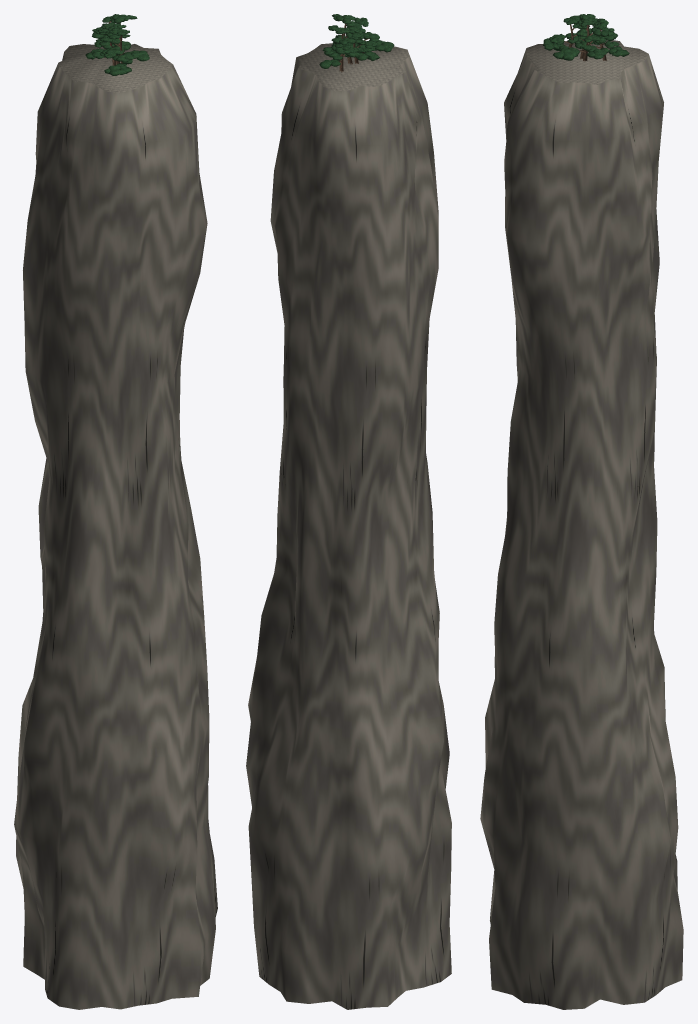
The model's file is karst_peak.glb.
The picture shows the model from 3 angles, left to right: view 1: azimuth 30°, elevation 25°; view 2: azimuth 150°, elevation 25°; view 3: azimuth 270°, elevation 25°; orthographic projection.
Visible parts, largest first — view 1: KarstPeak, PineNeedles.003, PineNeedles, PineNeedles.001; view 2: KarstPeak, PineNeedles, PineNeedles.002, PineNeedles.003, PineNeedles.001; view 3: KarstPeak, PineNeedles, PineNeedles.003, PineNeedles.002.
Boxes of the visible parts, box(x1,y1,x2,y2) form: KarstPeak: box(14, 44, 217, 1009); PineNeedles.003: box(100, 28, 133, 75); PineNeedles: box(92, 14, 149, 64); PineNeedles.001: box(85, 23, 130, 59); KarstPeak: box(246, 43, 451, 1009); PineNeedles: box(331, 14, 359, 57); PineNeedles.002: box(319, 25, 362, 68); PineNeedles.003: box(354, 17, 394, 52); PineNeedles.001: box(324, 21, 379, 60); KarstPeak: box(480, 40, 683, 1009); PineNeedles: box(553, 14, 617, 60); PineNeedles.003: box(543, 15, 591, 50); PineNeedles.002: box(575, 18, 629, 56).
Size of the model in its own units: 31.82 by 158 by 30.34.
3 materials, 3 textured.
